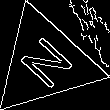N_SE: (13, 30, 78, 94)
